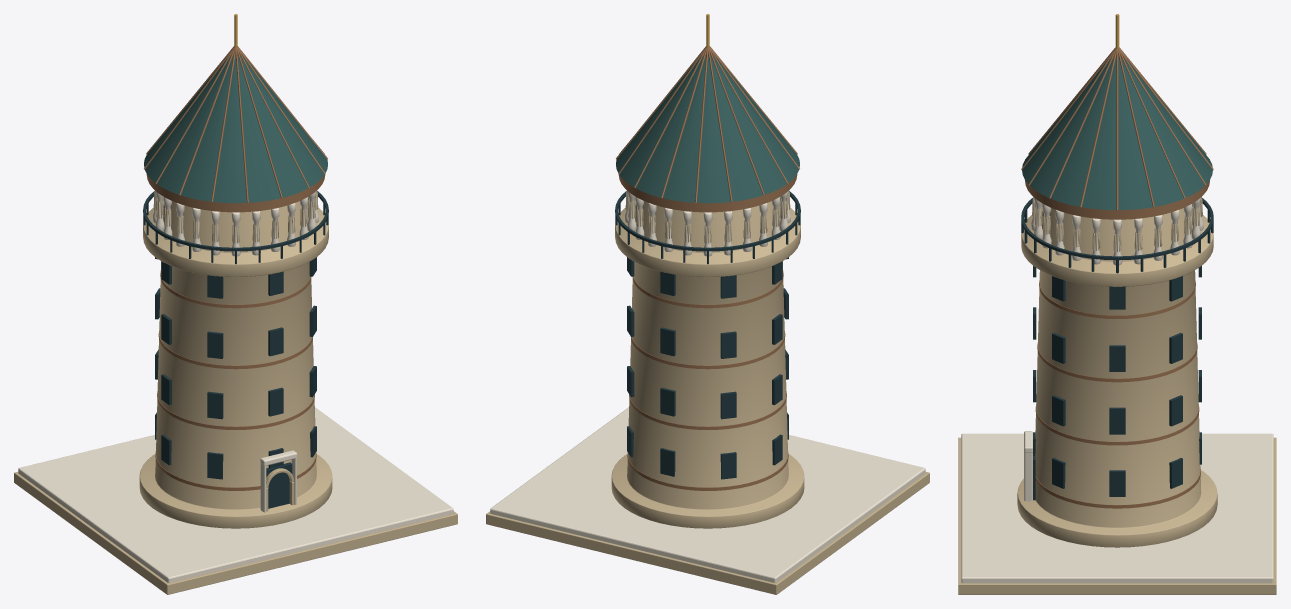
The model's file is galata.glb.
3 views of the same model, side by side, from view 1: azimuth 30°, elevation 25°; view 2: azimuth 150°, elevation 25°; view 3: azimuth 270°, elevation 25° (orthographic). The views are drawn at different scales.
Parts seen in each view (by area): view 1: galata_stone, galata_ivory, galata_roof, galata_ink, galata_bronze; view 2: galata_stone, galata_ivory, galata_roof, galata_bronze, galata_ink; view 3: galata_stone, galata_ivory, galata_roof, galata_bronze, galata_ink.
Boxes of the visible parts, bbox=[...] form: galata_stone: bbox=[14, 192, 457, 594]; galata_ivory: bbox=[18, 190, 453, 582]; galata_roof: bbox=[144, 55, 327, 203]; galata_ink: bbox=[143, 191, 328, 508]; galata_bronze: bbox=[144, 46, 327, 490]; galata_stone: bbox=[486, 192, 929, 594]; galata_ivory: bbox=[490, 190, 925, 582]; galata_roof: bbox=[616, 55, 799, 203]; galata_bronze: bbox=[616, 46, 799, 490]; galata_ink: bbox=[615, 191, 800, 479]; galata_stone: bbox=[958, 199, 1276, 594]; galata_ivory: bbox=[961, 197, 1273, 583]; galata_roof: bbox=[1022, 57, 1212, 210]; galata_bronze: bbox=[1021, 47, 1213, 508]; galata_ink: bbox=[1021, 198, 1213, 500].
Size of the model in its own units: 4.7 by 7.55 by 4.3.
